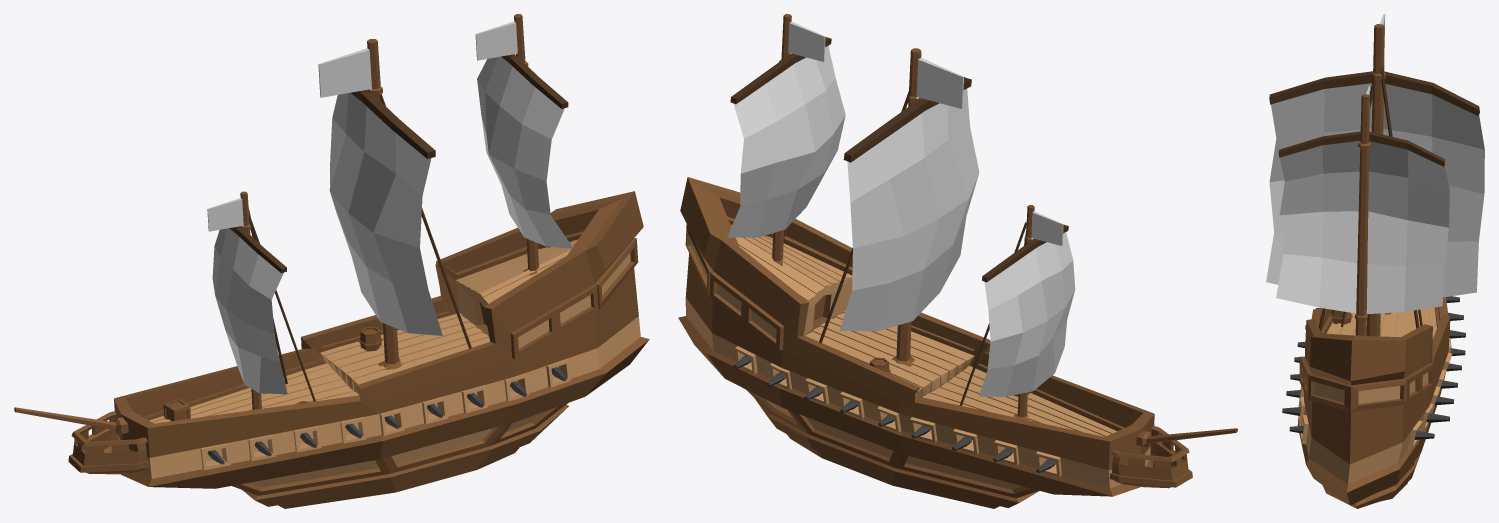
The model's file is boat.glb.
3 views of the same model, side by side, from view 1: azimuth 30°, elevation 25°; view 2: azimuth 150°, elevation 25°; view 3: azimuth 270°, elevation 25° (orthographic). The views are drawn at different scales.
Visible parts, largest first — view 1: boat; view 2: boat; view 3: boat.
Part boxes in pixels (x1,y1,x2,y2): boat: [14, 14, 649, 508]; boat: [678, 14, 1237, 508]; boat: [1266, 14, 1484, 508].
Size of the model in its own units: 5.05 by 3.5 by 1.62.
